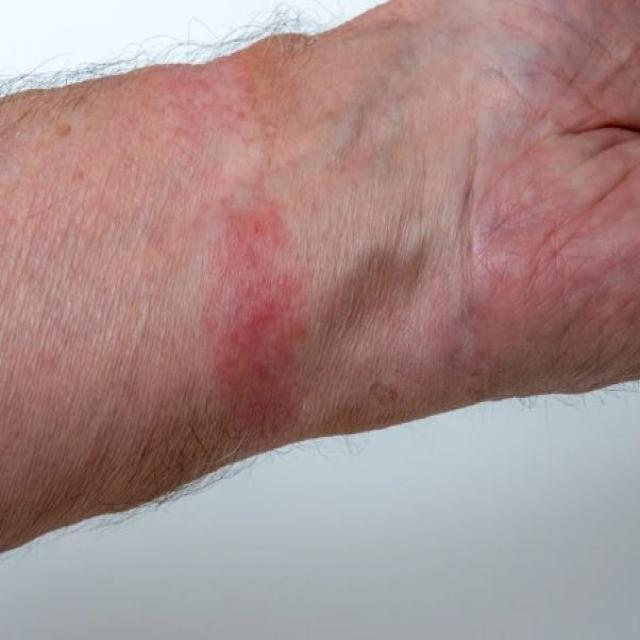Eczema: (191, 173, 324, 453)
